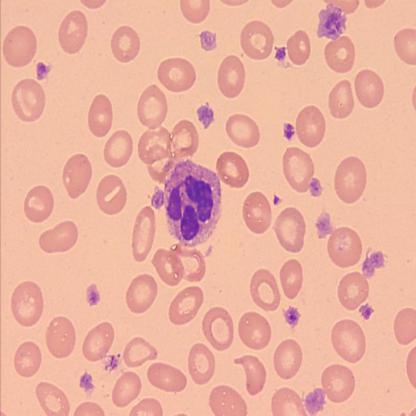Segmented neutrophil: (149, 158, 224, 249)
